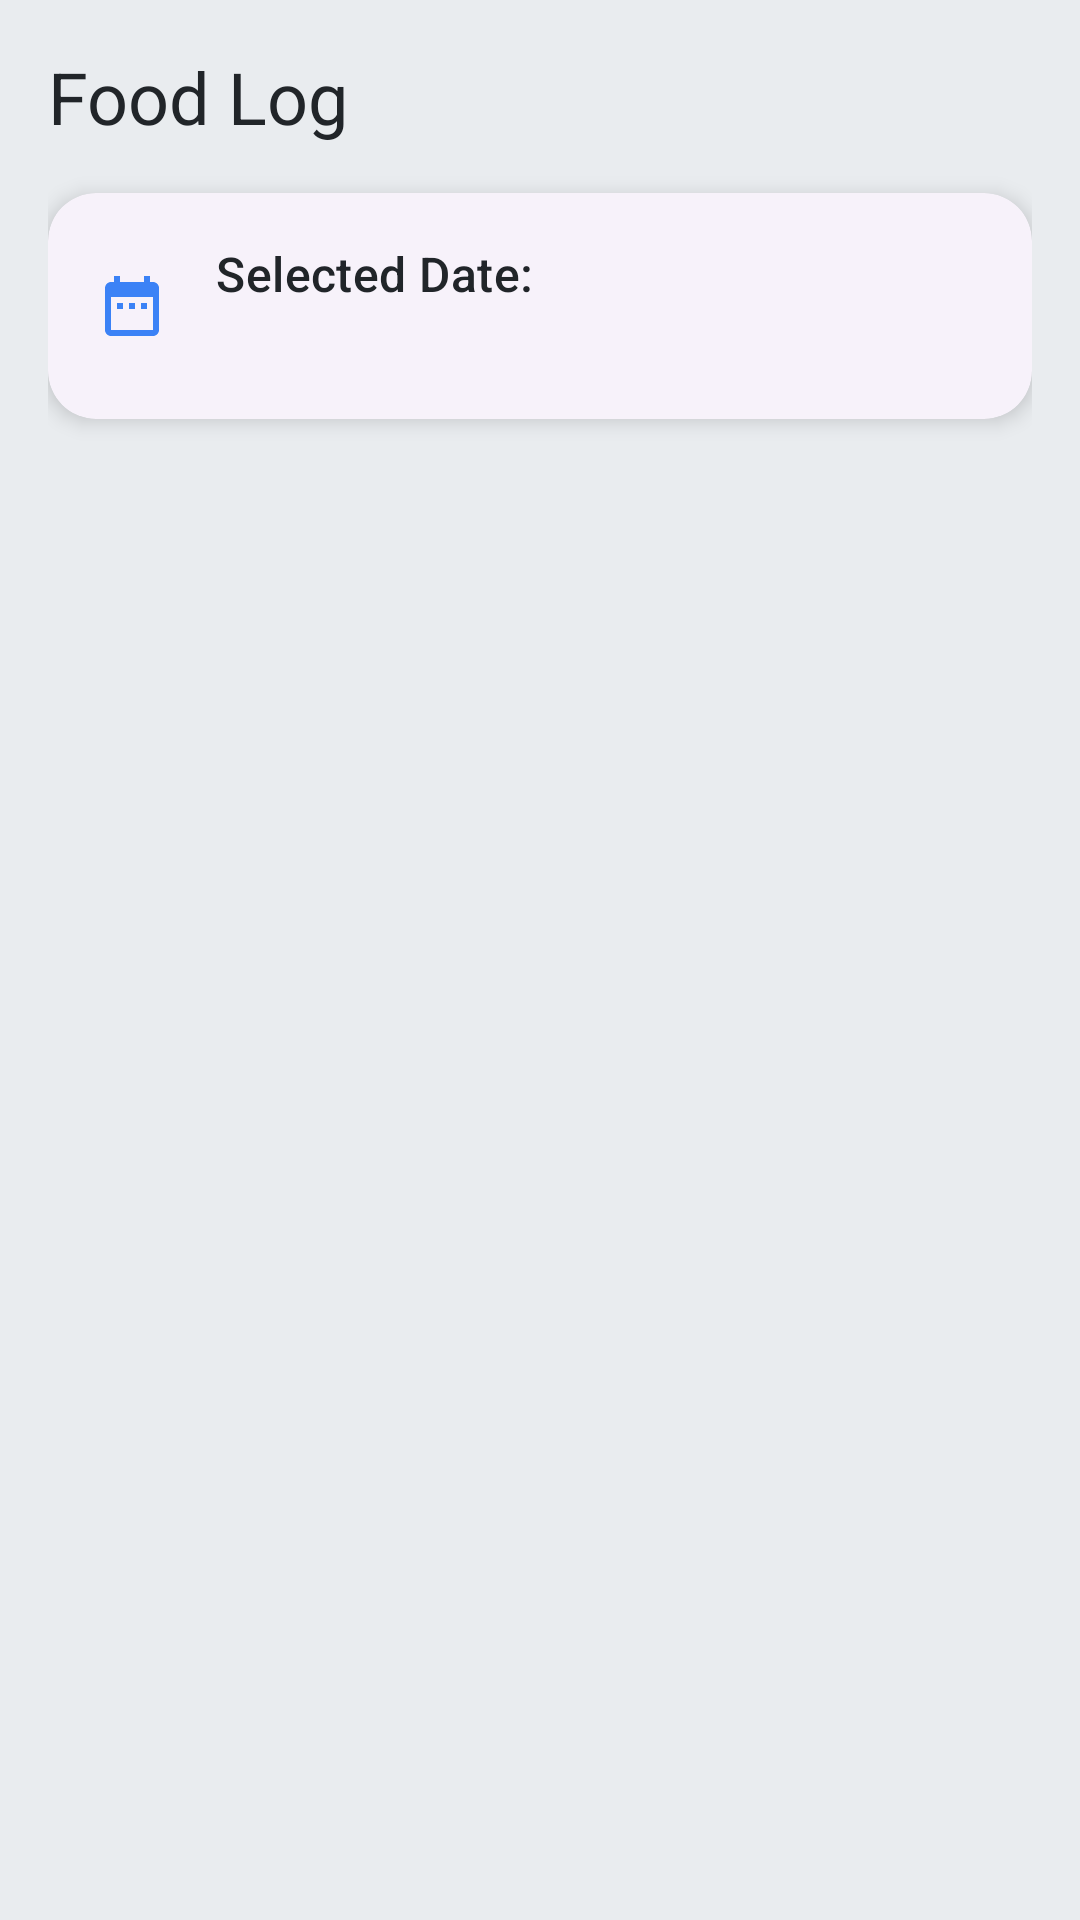

Where to tap for icons on this 1080×1920 app screen, as point (x, y):
Select Date: point (132, 306)
